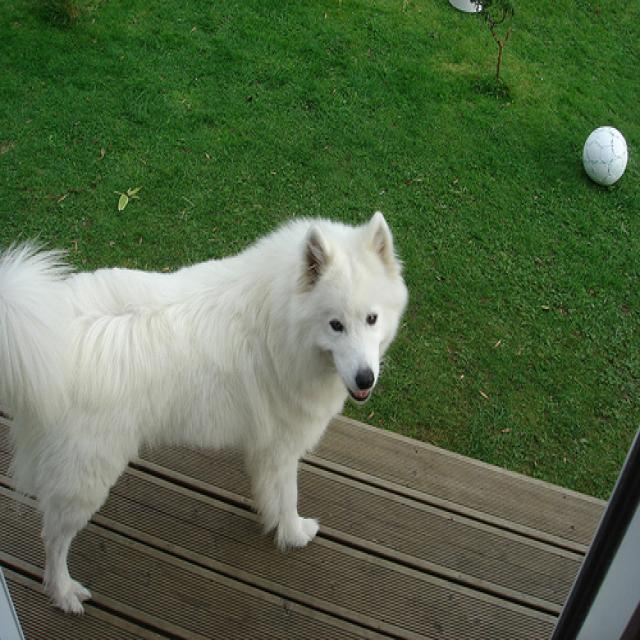dog-samoyed: (1, 200, 411, 625)
